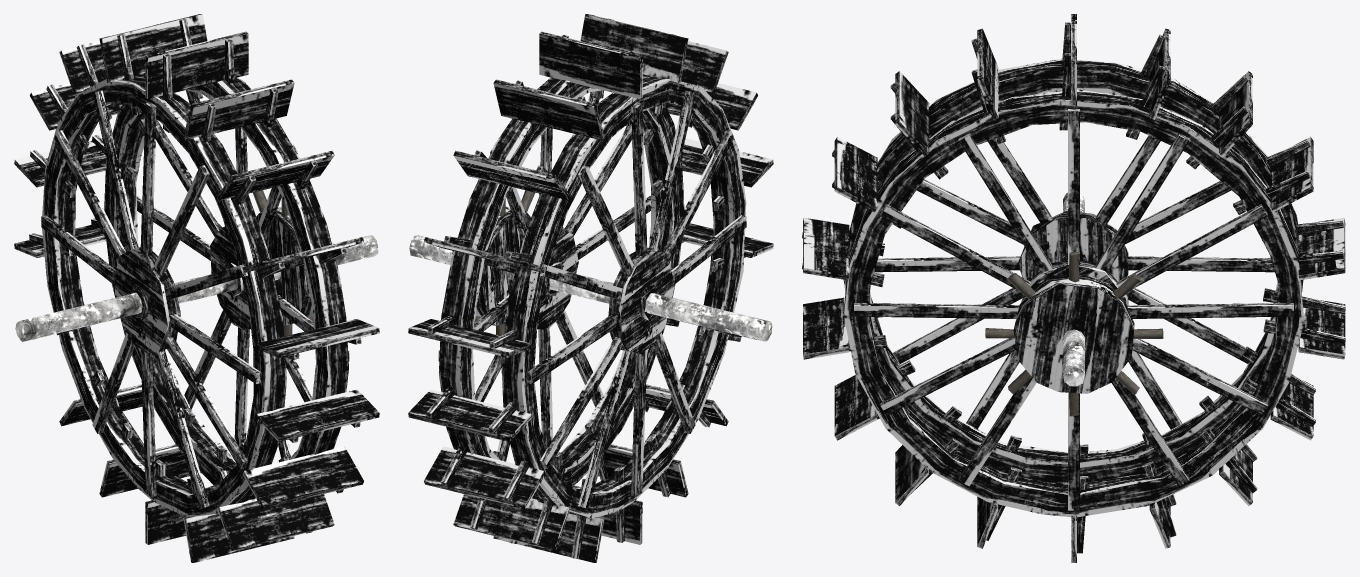
Rendered from SM_water_wheel_part_01.fbx.
The picture shows the model from 3 angles, left to right: view 1: azimuth 30°, elevation 25°; view 2: azimuth 150°, elevation 25°; view 3: azimuth 270°, elevation 25°; orthographic projection. The views are drawn at different scales.
Parts seen in each view (by area): view 1: SM_water_wheel_part_01_LOD0; view 2: SM_water_wheel_part_01_LOD0; view 3: SM_water_wheel_part_01_LOD0.
Boxes of the visible parts, x1,y1,x2,y2 form: SM_water_wheel_part_01_LOD0: [14, 14, 379, 562]; SM_water_wheel_part_01_LOD0: [408, 14, 773, 562]; SM_water_wheel_part_01_LOD0: [802, 14, 1345, 562].
Size of the model in its own units: 688 by 896 by 906.
Materials: 6 (6 with a texture image).
